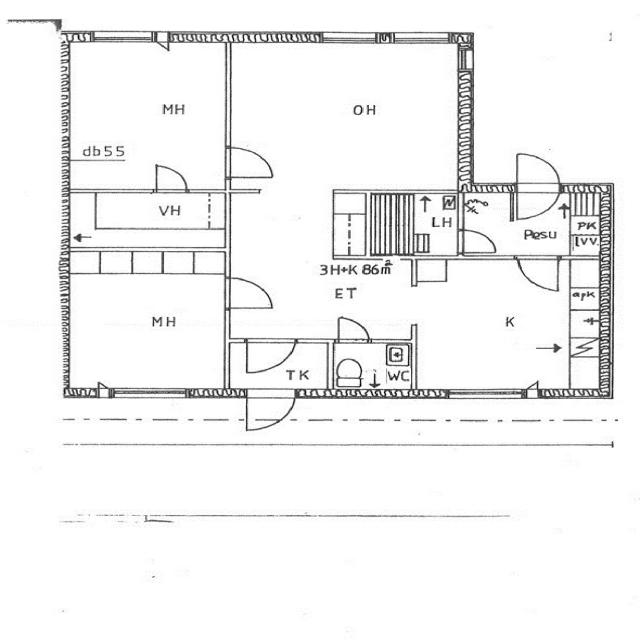door: (328, 342, 414, 394), (505, 148, 564, 222), (220, 140, 277, 182), (514, 254, 563, 294), (146, 162, 192, 194), (456, 228, 504, 256), (332, 316, 372, 344)
window: (218, 58, 238, 148), (106, 386, 192, 402), (442, 387, 528, 402), (387, 30, 452, 48), (320, 29, 380, 46)
zone: (229, 41, 468, 190), (66, 40, 229, 193), (65, 246, 228, 394), (412, 260, 574, 396), (66, 190, 230, 252), (359, 190, 461, 258), (328, 340, 412, 397), (239, 388, 299, 436), (240, 336, 298, 376), (221, 276, 279, 312), (91, 28, 155, 47)
